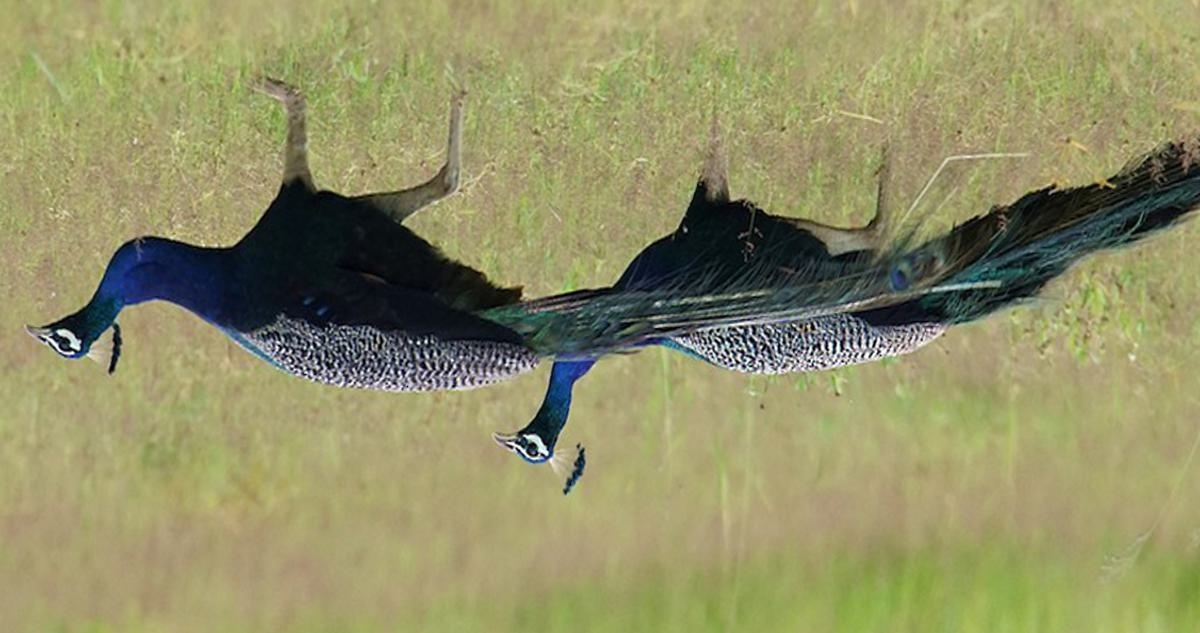peacock: (9, 88, 609, 439), (504, 164, 1095, 494)
